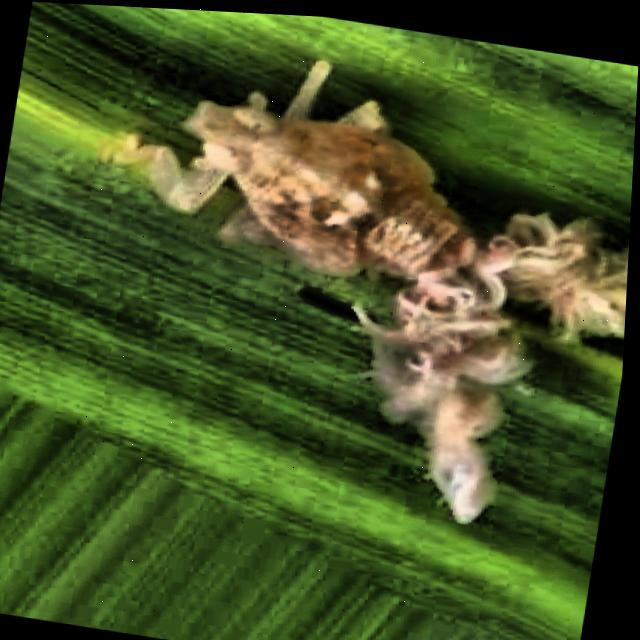Pyrilla-perpusilla: (31, 21, 639, 538)
